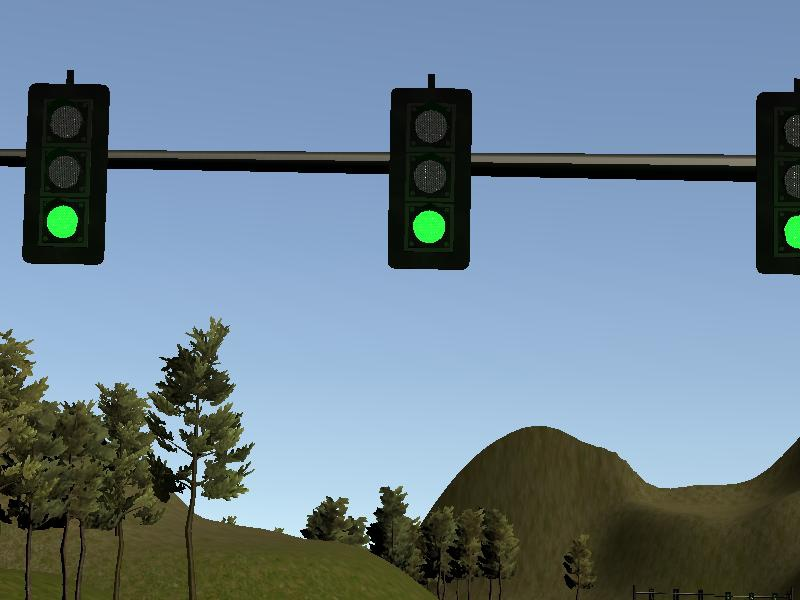green: (389, 85, 472, 273), (26, 83, 103, 265), (758, 90, 800, 273)
